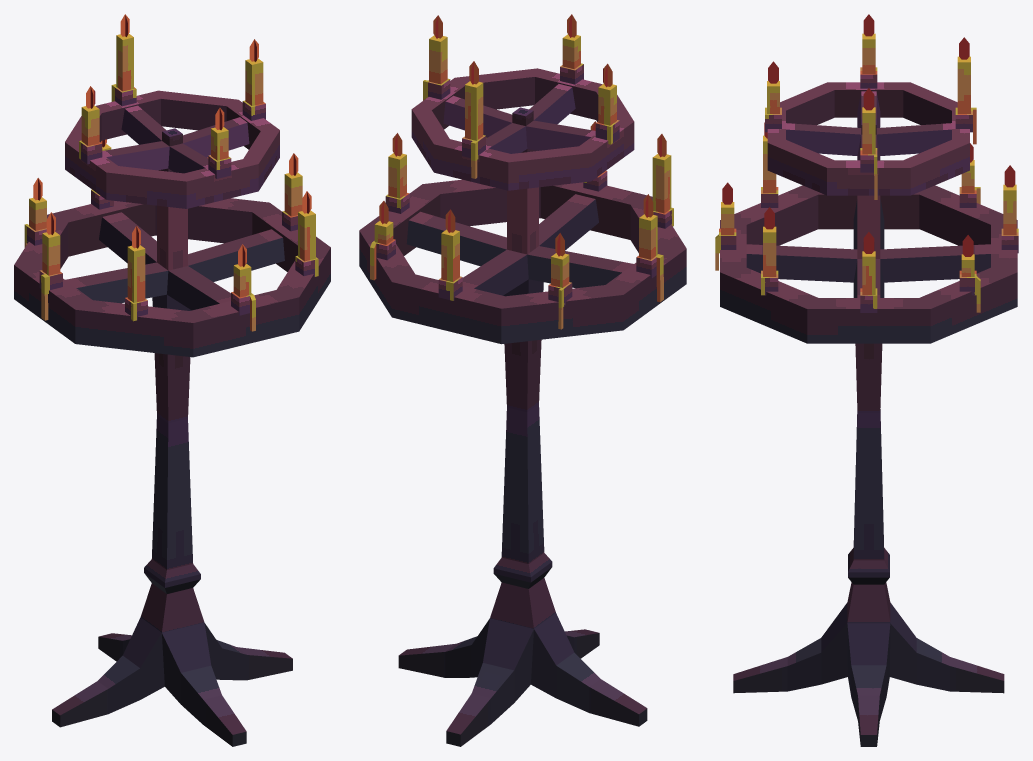
The model's file is Podsvechnik.gltf.
The picture shows the model from 3 angles, left to right: view 1: azimuth 30°, elevation 25°; view 2: azimuth 150°, elevation 25°; view 3: azimuth 270°, elevation 25°; orthographic projection. The views are drawn at different scales.
Visible parts, largest first — view 1: Base, Tube1, Tube2, Candle4, Candle6, Candle9, Candle12, Candle10, Candle3, Candle8, Candle1, Candle2 (+1 smaller); view 2: Base, Tube1, Tube2, Candle6, Candle9, Candle4, Candle7, Candle10, Candle1, Candle8, Candle5, Candle2 (+1 smaller); view 3: Base, Tube1, Tube2, Candle6, Candle10, Candle12, Candle7, Candle1, Candle3, Candle8, Candle11, Candle4 (+2 smaller).
Boxes of the visible parts, left/top/right/bottom form: Base: left=52, top=105, right=292, bottom=746; Tube1: left=14, top=198, right=330, bottom=357; Tube2: left=65, top=90, right=279, bottom=208; Candle4: left=125, top=245, right=147, bottom=321; Candle6: left=111, top=34, right=136, bottom=106; Candle9: left=39, top=232, right=62, bottom=320; Candle12: left=295, top=210, right=318, bottom=276; Candle10: left=242, top=58, right=265, bottom=120; Candle3: left=231, top=263, right=255, bottom=331; Candle8: left=79, top=105, right=102, bottom=164; Candle1: left=282, top=172, right=302, bottom=231; Candle2: left=208, top=127, right=231, bottom=178; Base: left=398, top=84, right=647, bottom=746; Tube1: left=359, top=179, right=686, bottom=344; Tube2: left=411, top=68, right=634, bottom=190; Candle6: left=462, top=81, right=485, bottom=178; Candle9: left=636, top=214, right=663, bottom=302; Candle4: left=652, top=154, right=673, bottom=228; Candle7: left=438, top=229, right=462, bottom=300; Candle10: left=423, top=35, right=450, bottom=100; Candle1: left=385, top=153, right=409, bottom=213; Candle8: left=595, top=83, right=619, bottom=144; Candle5: left=548, top=253, right=572, bottom=329; Candle2: left=560, top=34, right=583, bottom=84; Base: left=733, top=91, right=1004, bottom=746; Tube1: left=720, top=185, right=1017, bottom=343; Tube2: left=767, top=82, right=969, bottom=195; Candle6: left=955, top=56, right=976, bottom=144; Candle10: left=860, top=107, right=877, bottom=199; Candle12: left=761, top=226, right=778, bottom=295; Candle7: left=1001, top=184, right=1018, bottom=253; Candle1: left=860, top=251, right=877, bottom=312; Candle3: left=715, top=202, right=736, bottom=270; Candle8: left=860, top=33, right=877, bottom=88; Candle11: left=959, top=254, right=980, bottom=312; Candle4: left=761, top=135, right=778, bottom=207.
Size of the model in its own units: 0.4969 by 1.18 by 0.4969.
Materials: 1 (1 with a texture image).
